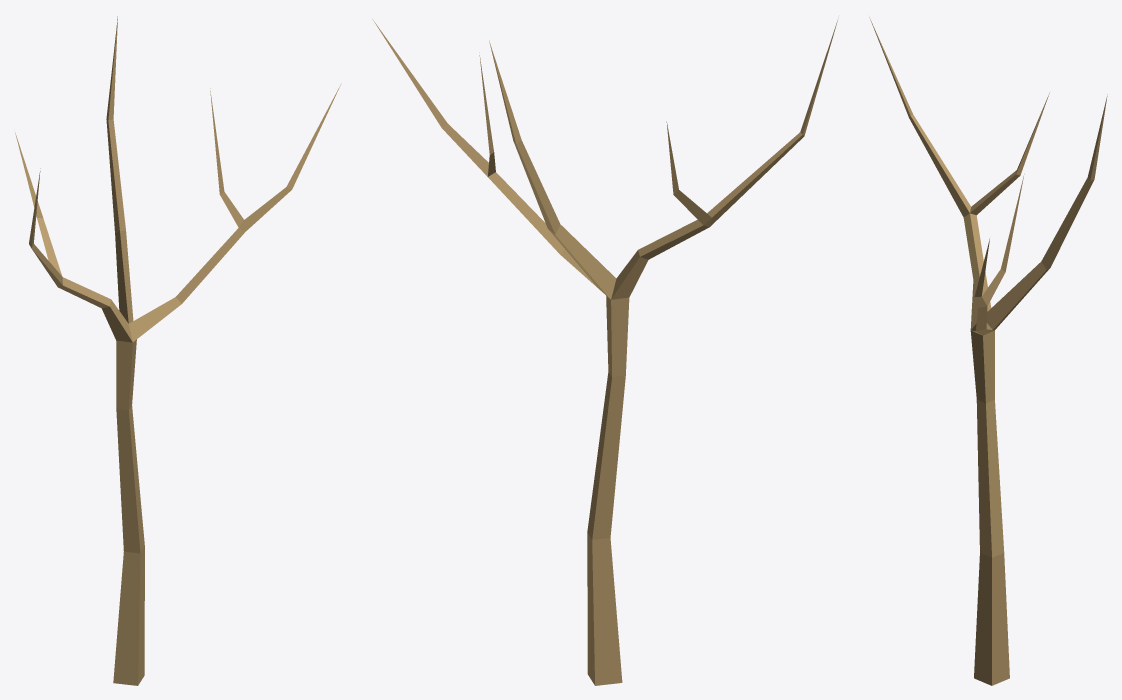
File: Random_Tree_NoLeaves_s_BT_04.fbx
3 views of the same model, side by side, from view 1: azimuth 30°, elevation 25°; view 2: azimuth 150°, elevation 25°; view 3: azimuth 270°, elevation 25° (orthographic). The views are drawn at different scales.
Visible parts, largest first — view 1: Random_Tree_NoLeaves_s_BT_04; view 2: Random_Tree_NoLeaves_s_BT_04; view 3: Random_Tree_NoLeaves_s_BT_04.
Boxes of the visible parts, left/top/right/bottom form: Random_Tree_NoLeaves_s_BT_04: left=15, top=16, right=341, bottom=685; Random_Tree_NoLeaves_s_BT_04: left=372, top=19, right=837, bottom=685; Random_Tree_NoLeaves_s_BT_04: left=869, top=17, right=1107, bottom=685.
Bounding box in the file's own units: 153 × 246 × 87.72.
